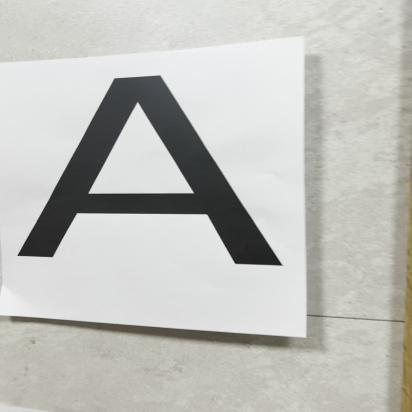seat: (10, 59, 274, 285)
